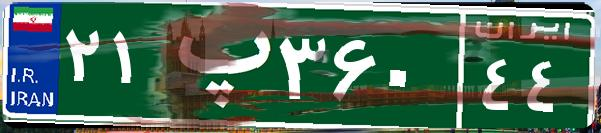0: (385, 28, 445, 110)
1: (110, 28, 158, 105)
2: (57, 26, 110, 107)
3: (273, 28, 330, 110)
4: (475, 38, 525, 113), (525, 38, 570, 115)
6: (330, 28, 385, 110)
پ: (158, 15, 273, 115)
